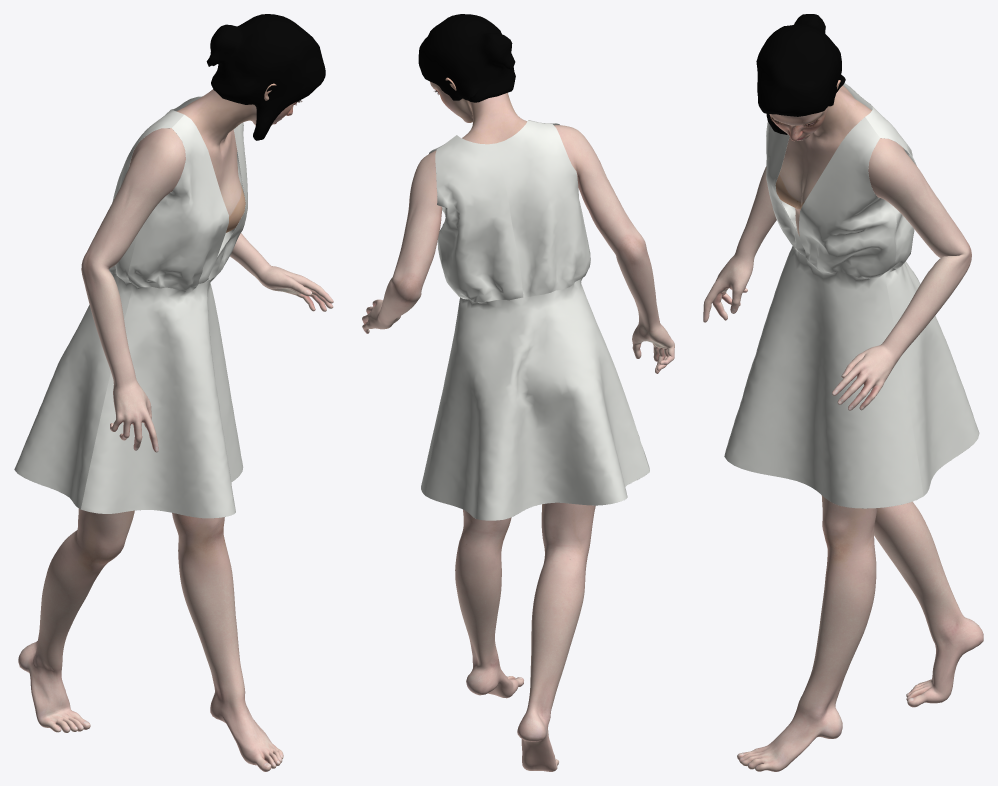
The model's file is Dramatic.obj.
3 renders of one model, left to right at view 1: azimuth 30°, elevation 25°; view 2: azimuth 150°, elevation 25°; view 3: azimuth 270°, elevation 25°, orthographic. The views are drawn at different scales.
Bounding box in the file's own units: 737 × 1739 × 590.
